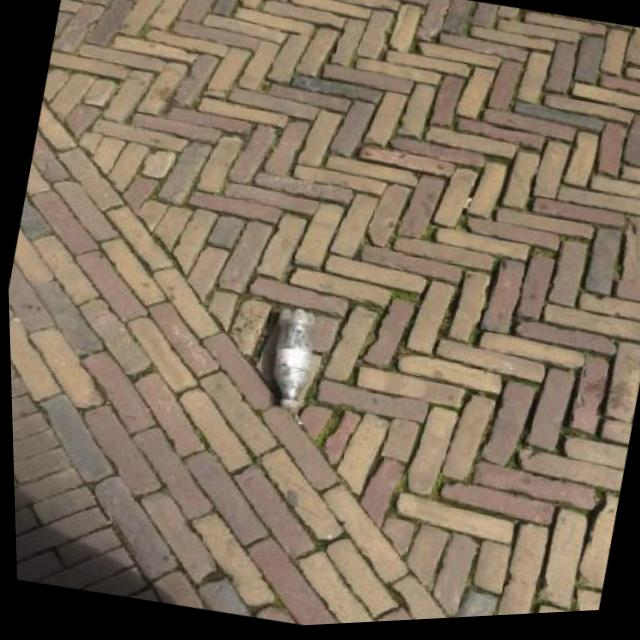plastic: (258, 303, 325, 414)
